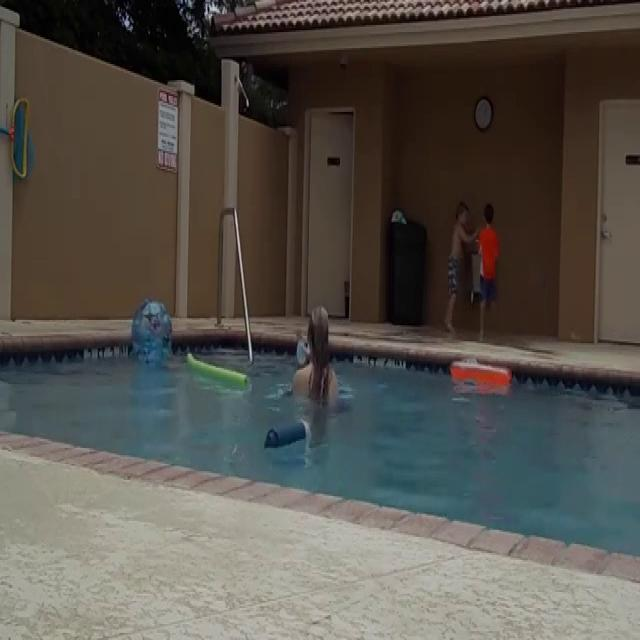adult: (290, 303, 339, 426)
child: (446, 197, 480, 330), (477, 205, 501, 334)
